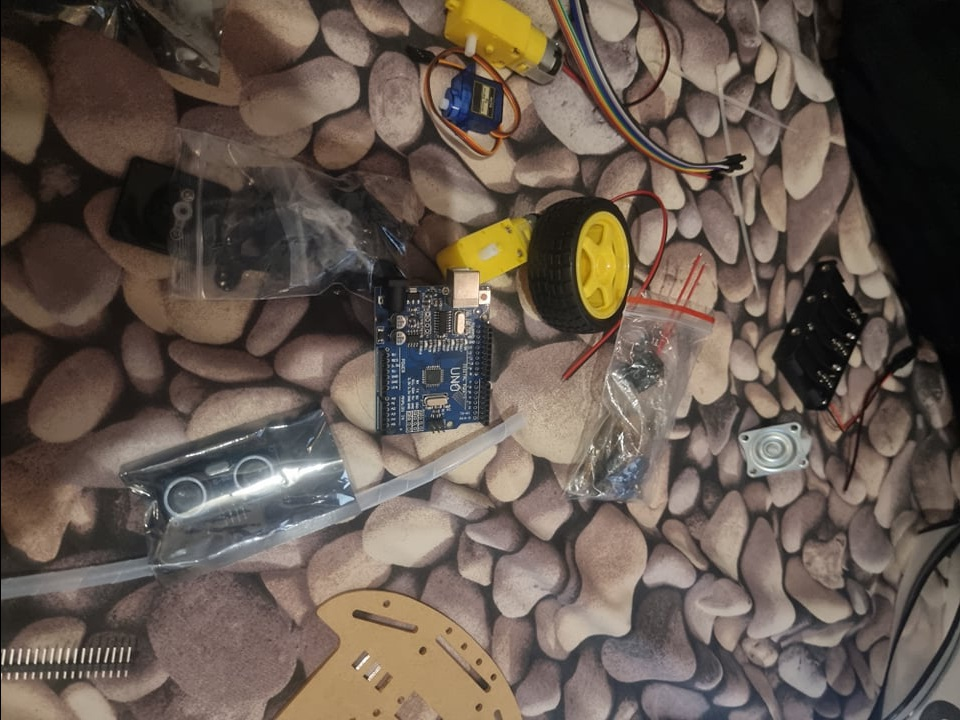BATTERY BOX: (774, 260, 869, 411)
SENSOR: (152, 454, 284, 520)
UNO R3: (370, 267, 501, 439)
